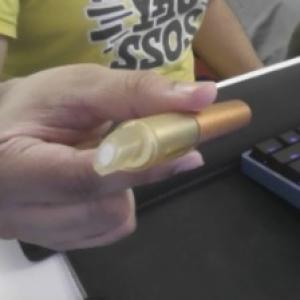Golden-E-Ciggirate: (90, 98, 254, 181)
